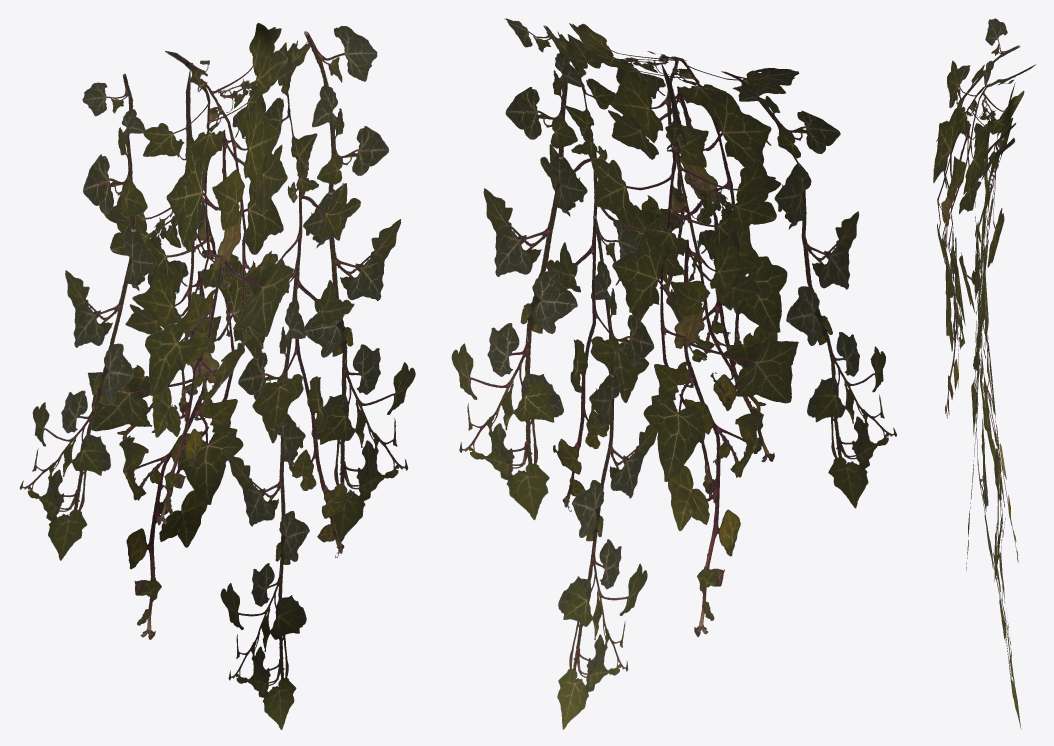
The model's file is Mesh_IvyFoliage-01.fbx.
The picture shows the model from 3 angles, left to right: view 1: azimuth 30°, elevation 25°; view 2: azimuth 150°, elevation 25°; view 3: azimuth 270°, elevation 25°; orthographic projection. The views are drawn at different scales.
Parts seen in each view (by area): view 1: Mesh_Ivy-01_LOD0; view 2: Mesh_Ivy-01_LOD0; view 3: Mesh_Ivy-01_LOD0.
Part boxes in pixels (x1=…): Mesh_Ivy-01_LOD0: x1=19, y1=22, x2=415, y2=730; Mesh_Ivy-01_LOD0: x1=451, y1=18, x2=896, y2=729; Mesh_Ivy-01_LOD0: x1=933, y1=18, x2=1035, y2=729.
Size of what is drawn, in the model's own units: 1 by 1.6 by 0.2463.
